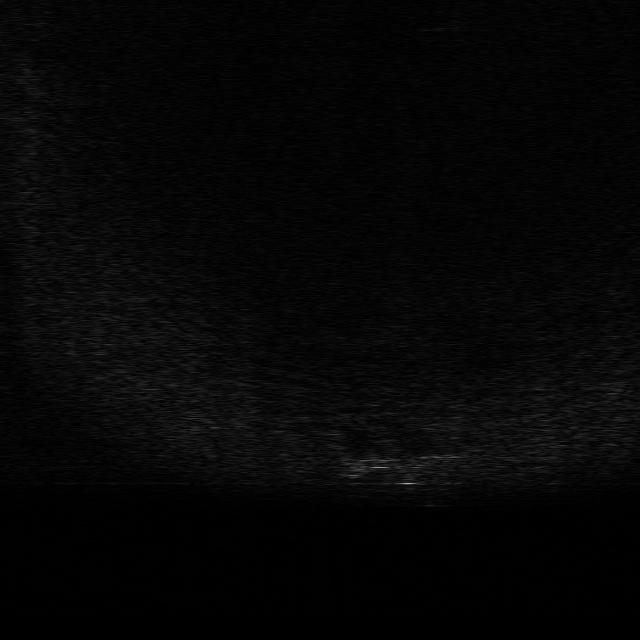plane: (337, 444, 465, 484)
